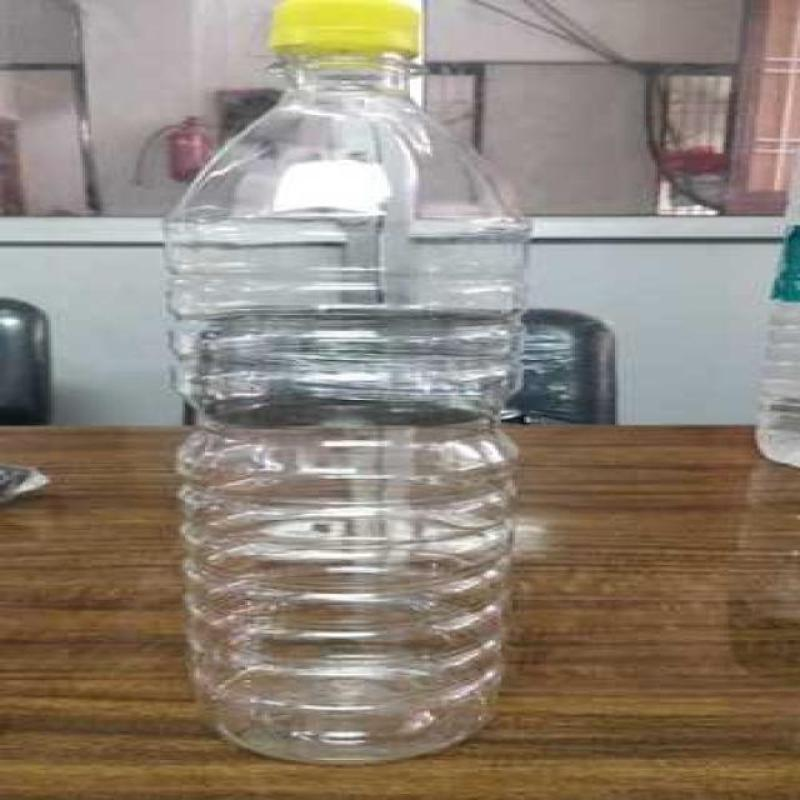botella: (167, 0, 528, 768), (754, 196, 800, 468)
